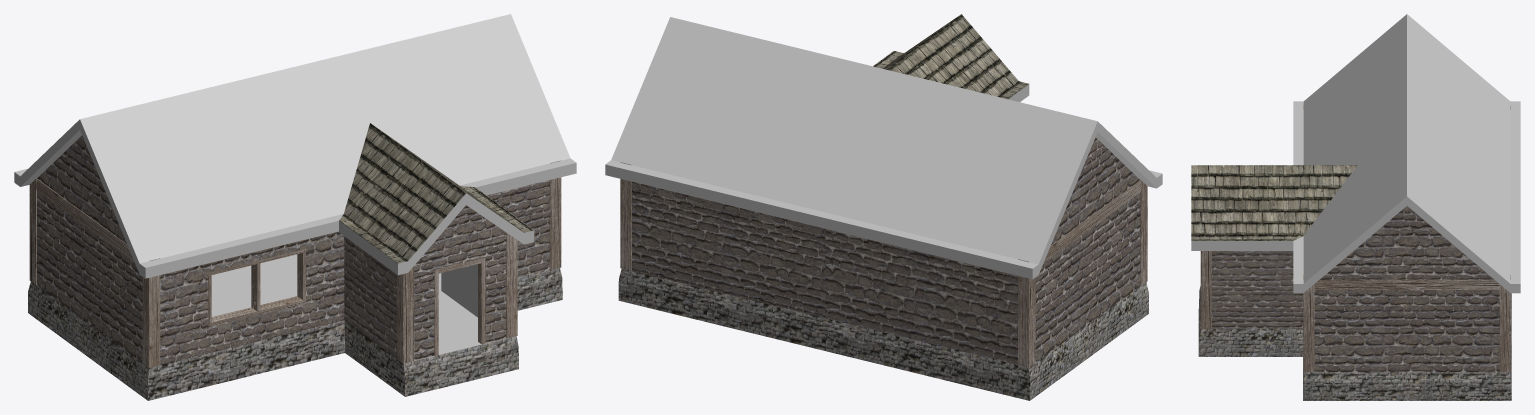
The model's file is house2.obj.
3 renders of one model, left to right at view 1: azimuth 30°, elevation 25°; view 2: azimuth 150°, elevation 25°; view 3: azimuth 270°, elevation 25°, orthographic. The views are drawn at different scales.
Visible parts, largest first — view 1: Roof1, Plane, Wall2, Roof2, Wall1, Wall5, Wall4, Wall7, Cube.015, Cube.010, Cube.026, Cube.011 (+5 smaller); view 2: Roof1, Plane, Wall9, Wall3, Wall2, Roof2, Cube.014, Cube.026, Cube.013, Cube.015; view 3: Roof1, Wall8, Roof2, Plane, Wall6, Cube.025, Cube.013, Cube.012, Cube.011.
Part boxes in pixels (left/top/right/bottom): Roof1: left=14, top=14, right=576, bottom=278; Plane: left=28, top=254, right=562, bottom=400; Wall2: left=37, top=135, right=142, bottom=362; Roof2: left=339, top=123, right=534, bottom=275; Wall1: left=160, top=231, right=344, bottom=364; Wall5: left=414, top=205, right=506, bottom=360; Wall4: left=344, top=236, right=396, bottom=358; Wall7: left=441, top=180, right=549, bottom=294; Cube.015: left=142, top=258, right=160, bottom=367; Cube.010: left=397, top=266, right=414, bottom=363; Cube.026: left=36, top=178, right=134, bottom=261; Cube.011: left=506, top=232, right=517, bottom=338; Roof1: left=605, top=17, right=1162, bottom=279; Plane: left=618, top=269, right=1148, bottom=400; Wall9: left=632, top=181, right=825, bottom=317; Wall3: left=825, top=229, right=1017, bottom=364; Wall2: left=1035, top=137, right=1140, bottom=362; Roof2: left=873, top=14, right=1029, bottom=101; Cube.014: left=1018, top=259, right=1035, bottom=367; Cube.026: left=1044, top=180, right=1140, bottom=262; Cube.013: left=620, top=162, right=631, bottom=270; Cube.015: left=1140, top=180, right=1147, bottom=285; Roof1: left=1293, top=14, right=1520, bottom=293; Wall8: left=1314, top=206, right=1499, bottom=372; Roof2: left=1191, top=165, right=1357, bottom=250; Plane: left=1198, top=286, right=1511, bottom=400; Wall6: left=1212, top=235, right=1303, bottom=328; Cube.025: left=1314, top=279, right=1499, bottom=289; Cube.013: left=1499, top=275, right=1510, bottom=372; Cube.012: left=1303, top=275, right=1314, bottom=372; Cube.011: left=1200, top=251, right=1211, bottom=328.
Size of the model in its own units: 42 by 22.34 by 32.06.
